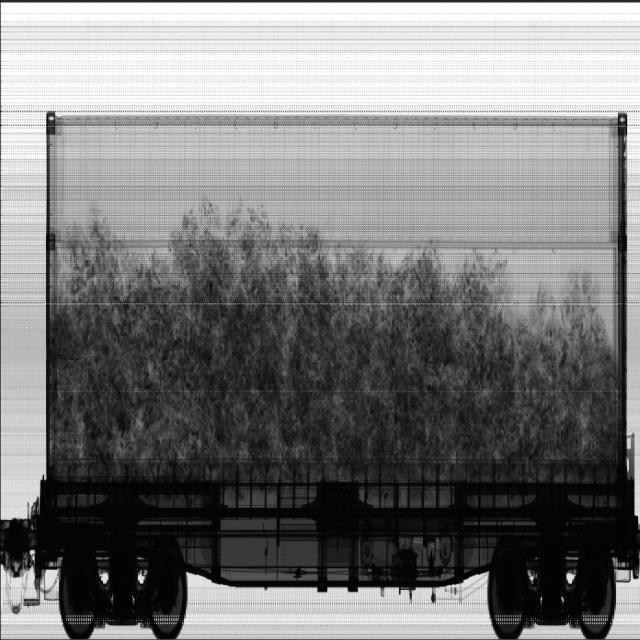textiles: (48, 198, 617, 472)
